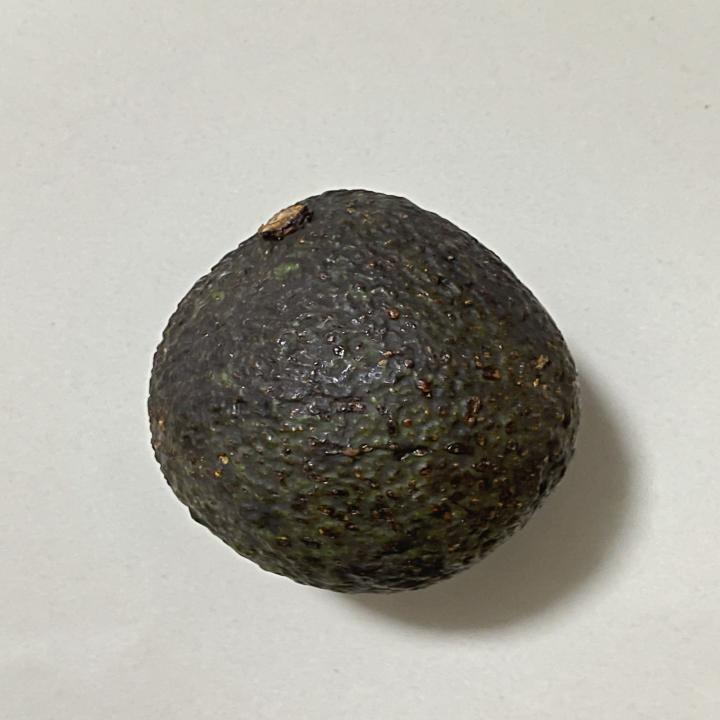Level1: (134, 175, 592, 610)
